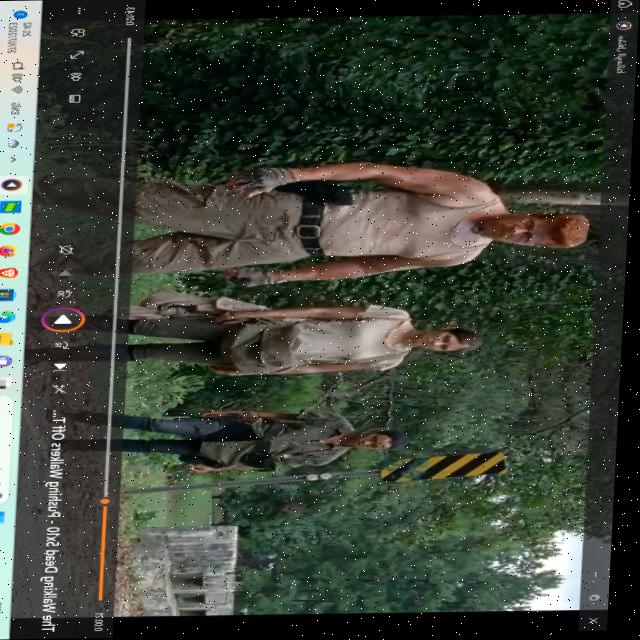human: (481, 211, 588, 254), (412, 327, 485, 356), (344, 434, 407, 452)
